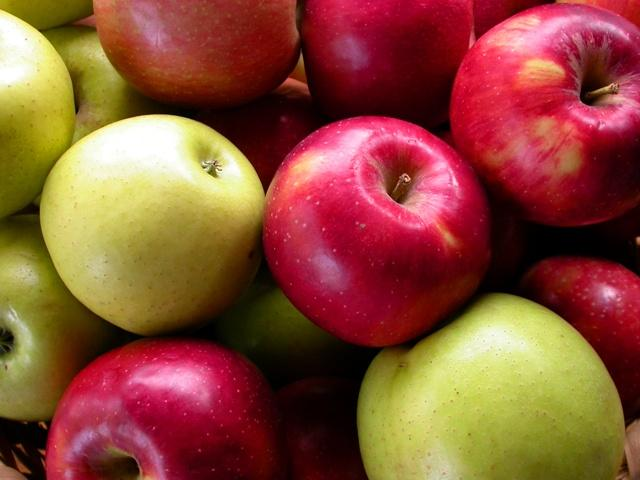apple: (261, 110, 499, 346), (448, 4, 640, 226), (42, 335, 301, 480)
